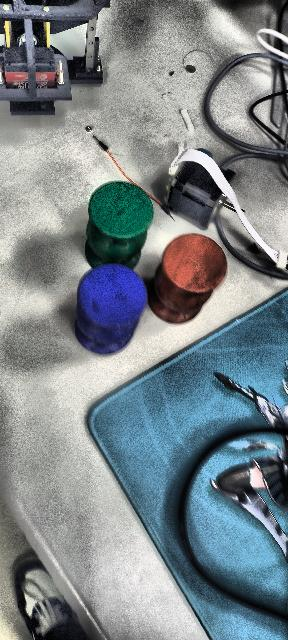blue: (74, 262, 148, 354)
green: (84, 185, 156, 268)
red: (149, 230, 225, 327)
